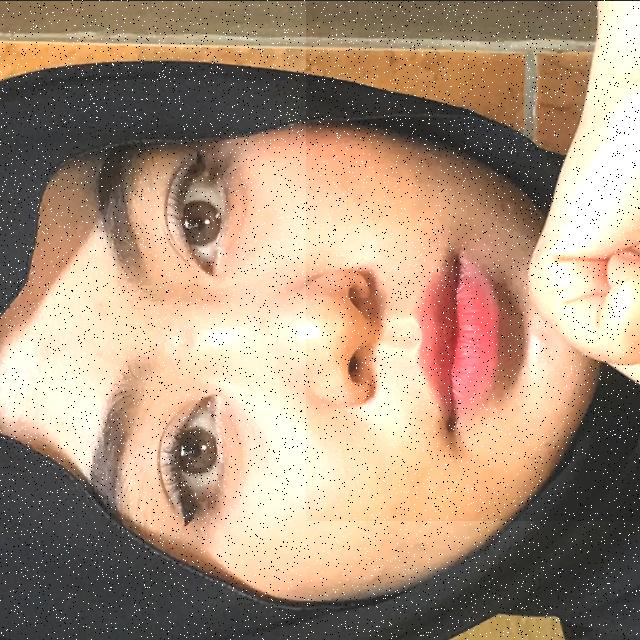sedih: (306, 0, 640, 520)
